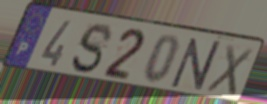0: (141, 33, 182, 86)
2: (101, 27, 147, 83)
4: (39, 19, 72, 68)
N: (169, 37, 223, 92)
S: (68, 22, 114, 76)
X: (203, 42, 256, 98)
